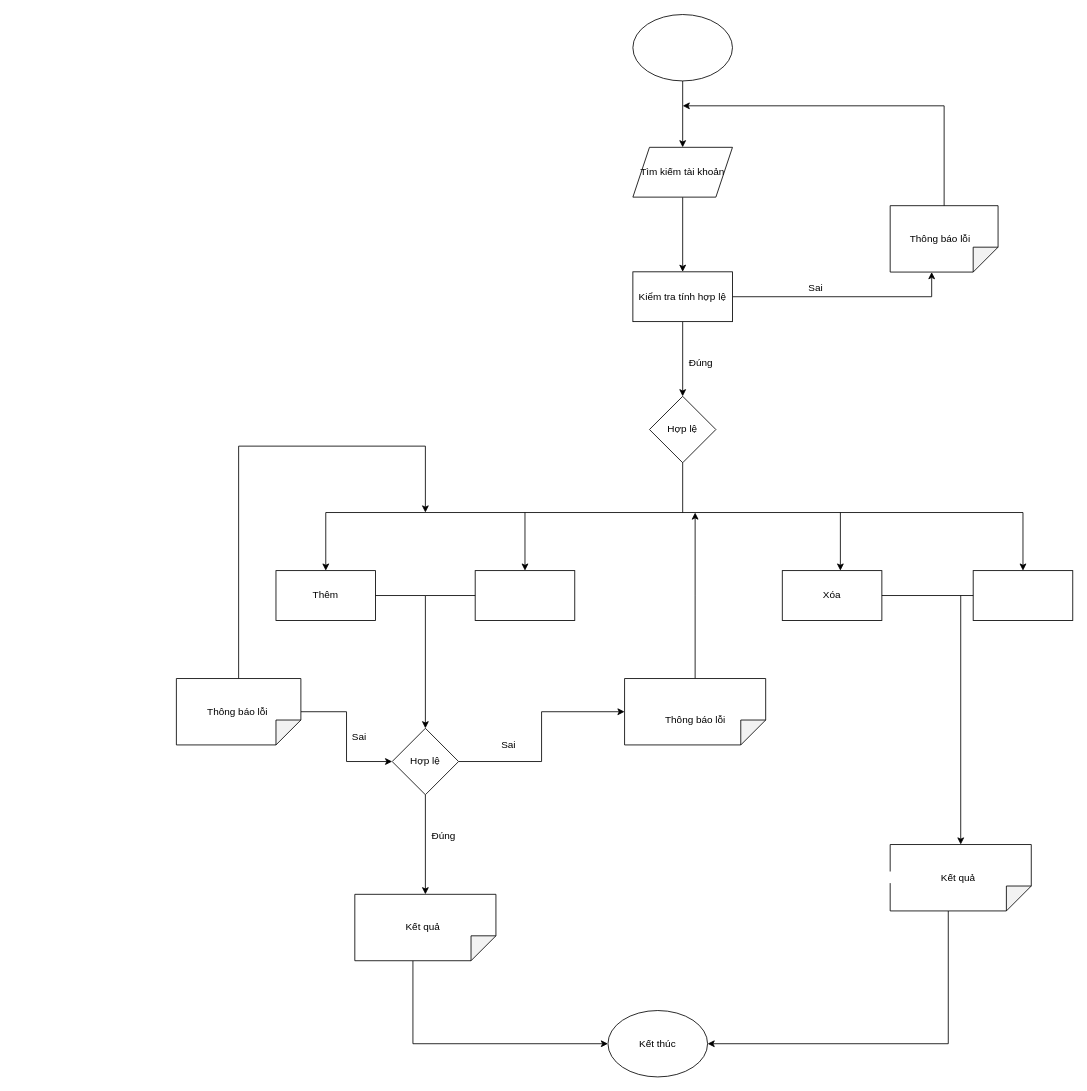
This 1087x1091 diagram has some shape labels left out. The centre of each missing label's shape, as x and y in pixels:
"Bắt đầu" belongs at pixel 682 47.
"Sửa" belongs at pixel 524 595.
"Tìm kiếm" belongs at pixel 1022 595.
